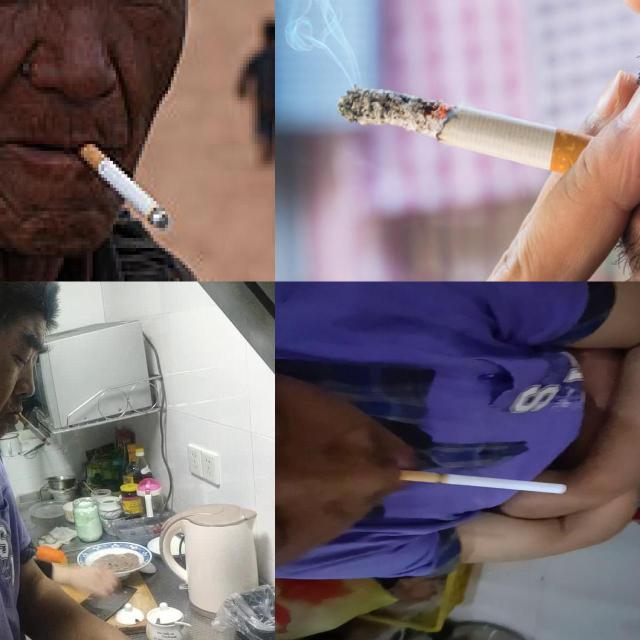smoking: (331, 81, 589, 177), (74, 136, 169, 232), (399, 468, 567, 494), (17, 411, 49, 443)
